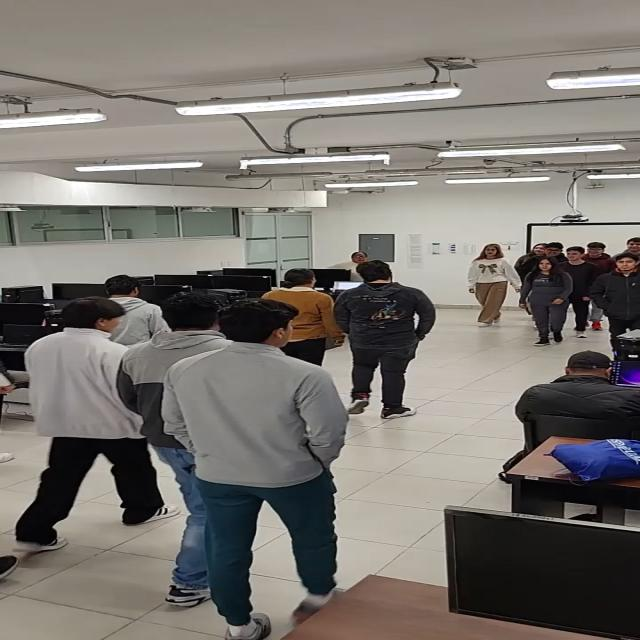Persona: (212, 306, 336, 590), (28, 306, 132, 525), (157, 295, 230, 520), (348, 264, 421, 413), (277, 276, 334, 338), (529, 260, 570, 340), (560, 250, 597, 333), (600, 256, 640, 331), (472, 246, 502, 322)
